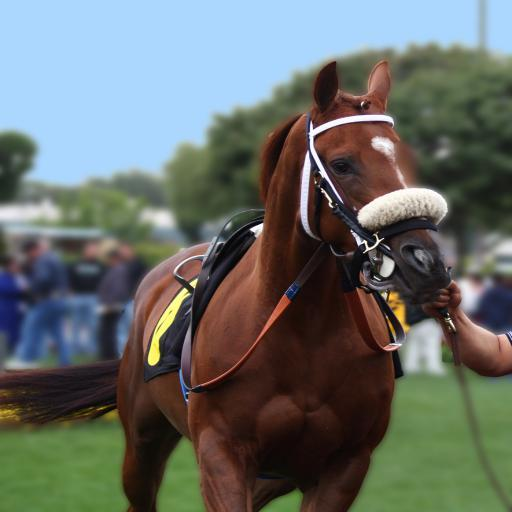Horse: (0, 59, 457, 511)
